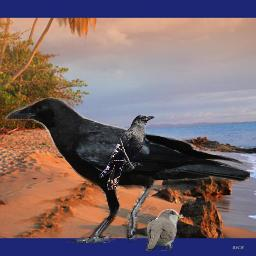Crow: (5, 95, 250, 243), (99, 114, 155, 190)
Cuckoo: (145, 209, 184, 251)
